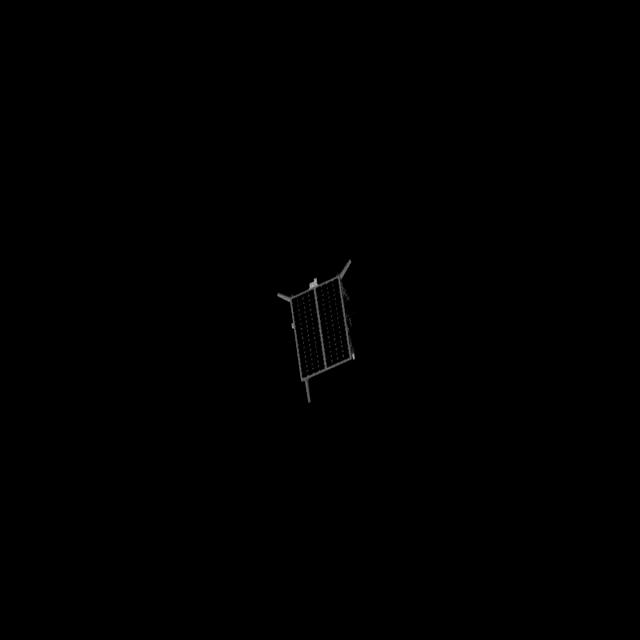satellite: (258, 256, 376, 416)
